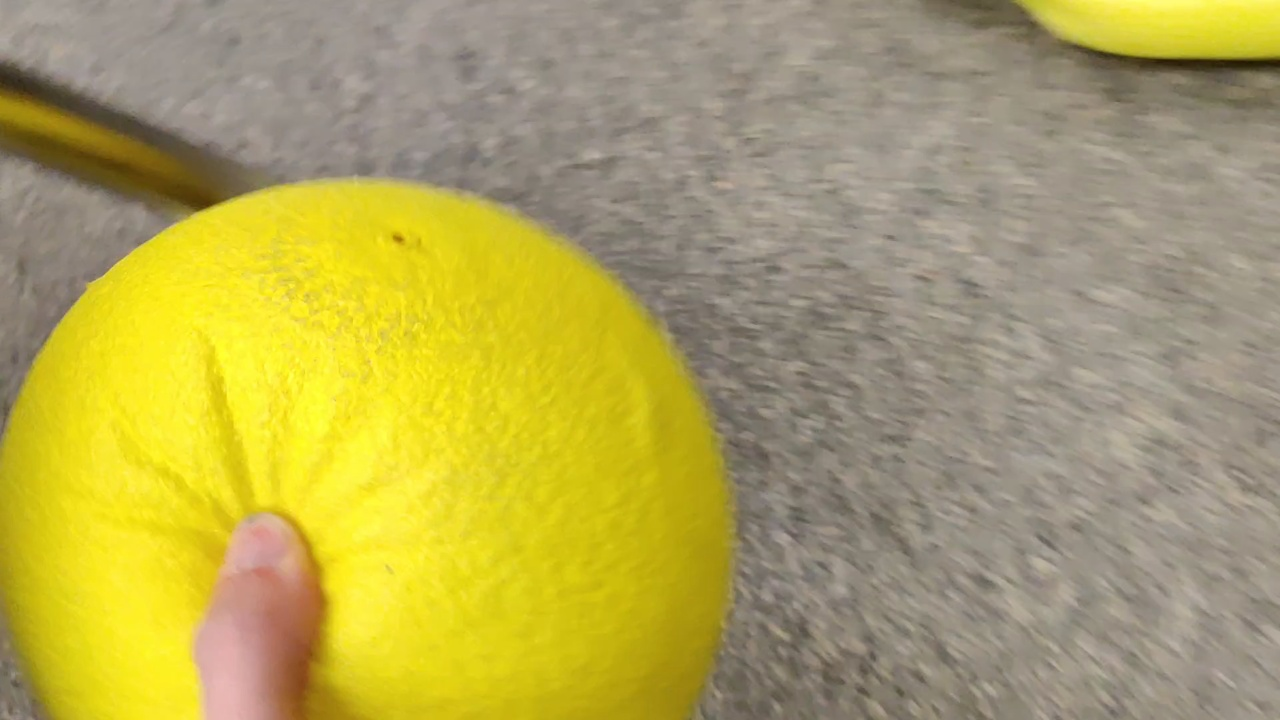Ball: (1, 181, 738, 710)
